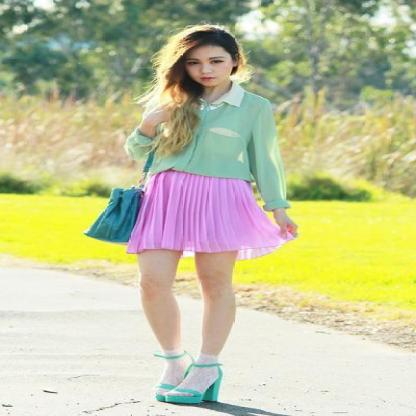bag: (87, 187, 166, 242)
shirt: (116, 84, 296, 213)
shoe: (156, 374, 222, 406)
skirt: (112, 171, 285, 260)
